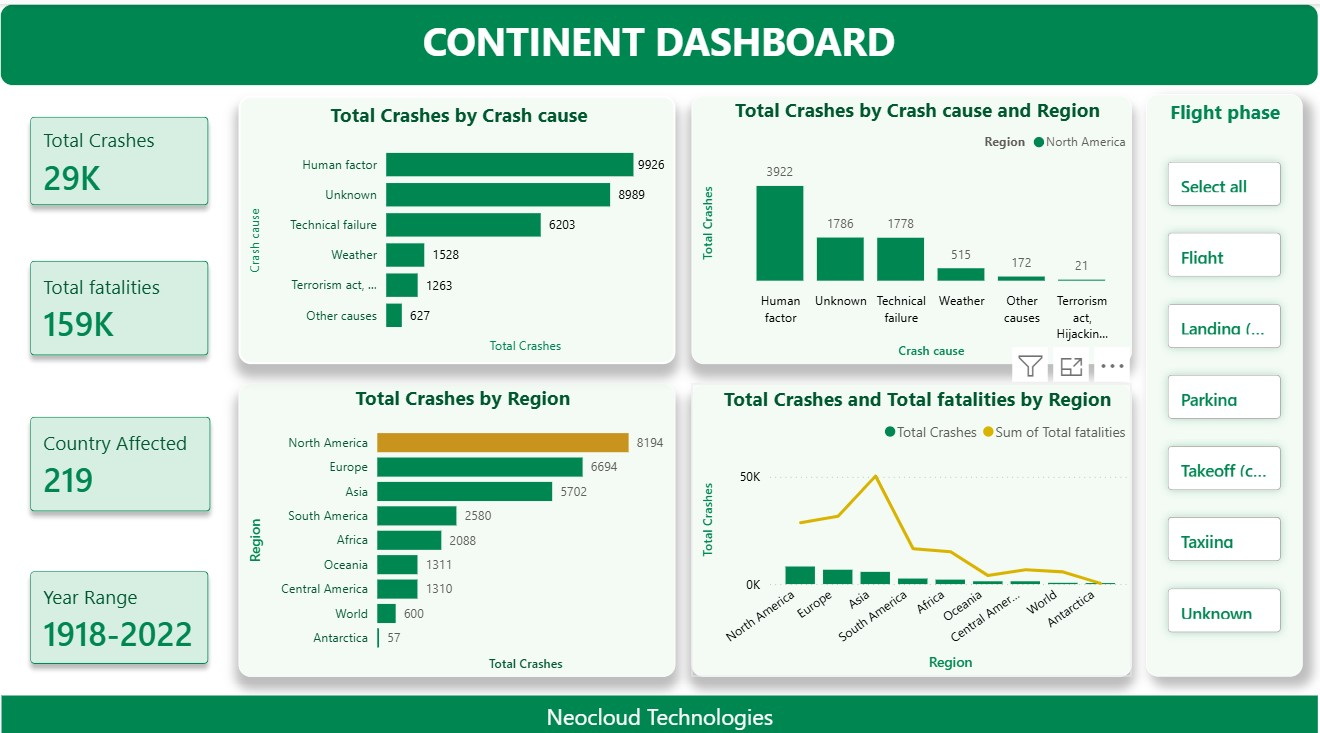

This screenshot's page, from the dashboard's own definition file:
{"tool":"powerbi","page":{"name":"Continent Dashboard","canvas":[1280,720],"ordinal":2},"visuals":[{"type":"textbox","box":[0,0,1279.2,79.3],"z":0},{"type":"cardVisual","fields":{"Data":["Worksheet.Total Crashes"]},"box":[0,79.3,231.5,144.1],"z":1000},{"type":"cardVisual","fields":{"Data":["Sum(Worksheet.Total fatalities)"]},"box":[0,220.2,231.5,150.6],"z":2000},{"type":"cardVisual","fields":{"Data":["Count(Worksheet.Country)"]},"box":[0,370.8,233.2,150.6],"z":3000},{"type":"cardVisual","fields":{"Data":["Worksheet.Year Range"]},"box":[0,521.4,231.5,149],"z":4000},{"type":"clusteredBarChart","fields":{"Category":["Worksheet.Region"],"Y":["Worksheet.Total Crashes"]},"box":[231.5,367.6,424.2,285],"z":5000},{"type":"barChart","fields":{"Y":["Worksheet.Total Crashes"],"Category":["Worksheet.Crash cause"]},"box":[231.5,89.1,424.2,260.7],"z":6000},{"type":"columnChart","fields":{"Category":["Worksheet.Crash cause"],"Y":["Worksheet.Total Crashes"],"Series":["Worksheet.Region"]},"box":[670.4,89.1,427.5,260.7],"z":7000},{"type":"lineStackedColumnComboChart","title":"Total Crashes and Total fatalities by Region","fields":{"Category":["Worksheet.Region"],"Y":["Worksheet.Total Crashes"],"Y2":["Sum(Worksheet.Total fatalities)"]},"box":[670.4,367.6,427.5,285],"z":8000},{"type":"textbox","box":[1.6,670.4,1277.6,50.2],"z":9000},{"type":"advancedSlicerVisual","fields":{"Values":["Worksheet.Flight phase"]},"box":[1112.4,87.4,152.2,565.1],"z":10000}]}

Visuals, with their boxes in screenshot pixels (x1, y1, x2, y2), scaled from the page's 1280x720 canvas onto the 1320x733 screenshot:
textbox: <box>0,0,1319,81</box>
cardVisual - Worksheet.Total Crashes: <box>0,81,239,227</box>
cardVisual - Sum(Worksheet.Total fatalities): <box>0,224,239,377</box>
cardVisual - Count(Worksheet.Country): <box>0,377,240,531</box>
cardVisual - Worksheet.Year Range: <box>0,531,239,683</box>
clusteredBarChart - Worksheet.Region x Worksheet.Total Crashes: <box>239,374,676,664</box>
barChart - Worksheet.Total Crashes x Worksheet.Crash cause: <box>239,91,676,356</box>
columnChart - Worksheet.Crash cause x Worksheet.Total Crashes: <box>691,91,1132,356</box>
"Total Crashes and Total fatalities by Region" lineStackedColumnComboChart: <box>691,374,1132,664</box>
textbox: <box>2,683,1319,732</box>
advancedSlicerVisual - Worksheet.Flight phase: <box>1147,89,1304,664</box>
